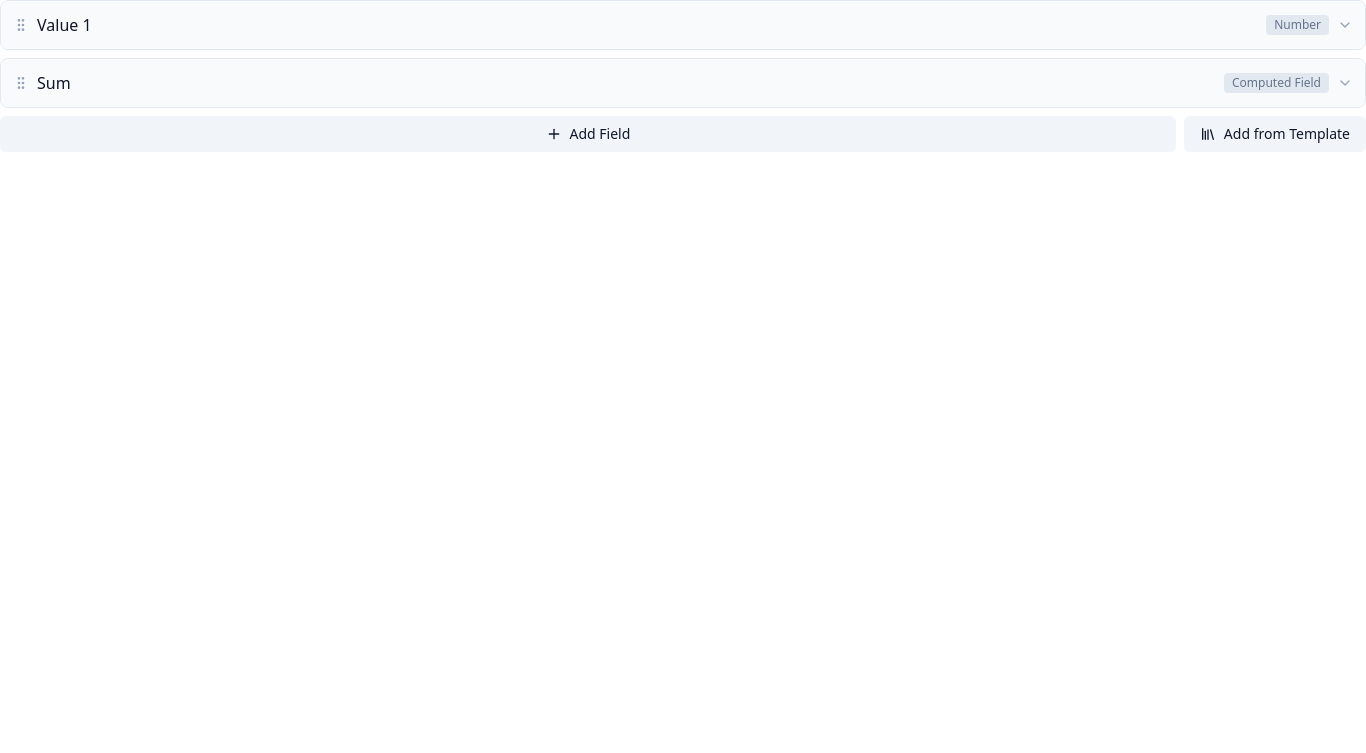
Test: FieldDefinitionEditor - Computed Field Configuration (Issue #25 Phase 2) › Computed field type - formula editor › should show preview of computed result if possible
The image size is (1366, 753).
Click the text "Sum" at (54, 83), box [37,72,71,94]
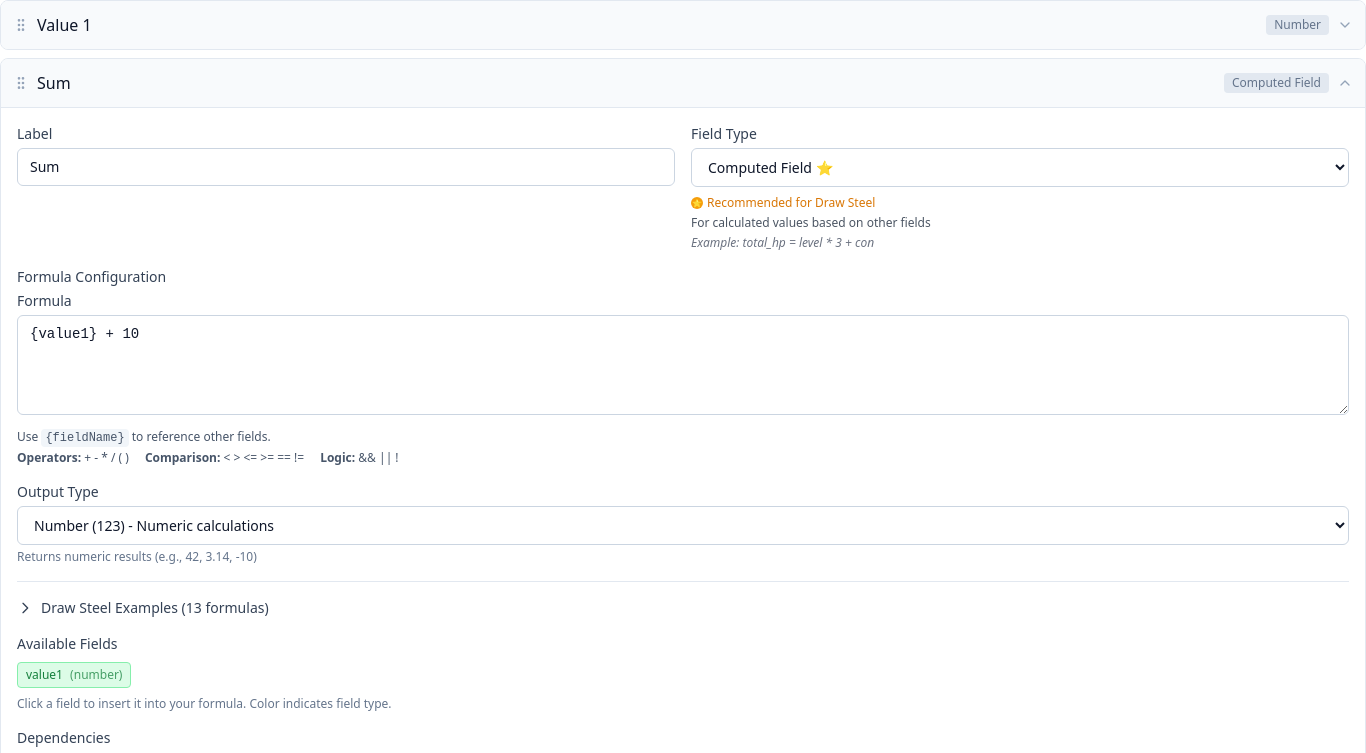
Now the text "Formula Configuration" is shown, box [17,267,166,286]
